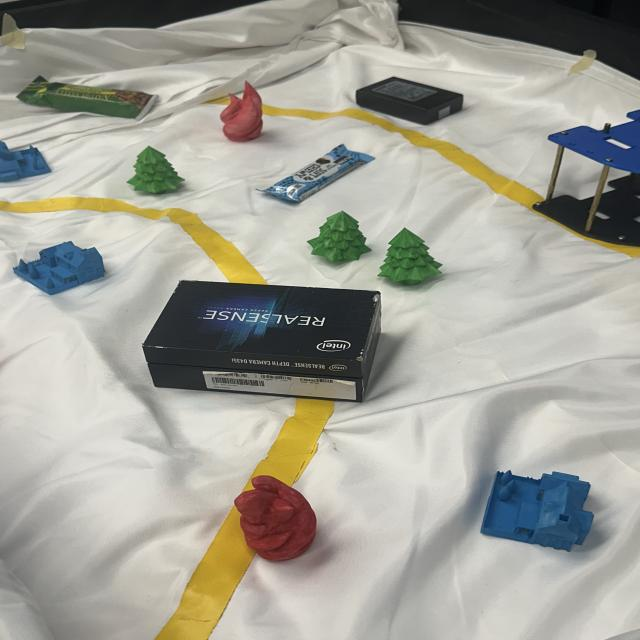fire: (237, 474, 323, 565), (222, 86, 268, 143)
house: (480, 468, 595, 552), (12, 238, 108, 295), (0, 137, 53, 181)
tree: (379, 225, 449, 288), (307, 211, 370, 266), (131, 144, 179, 200)
